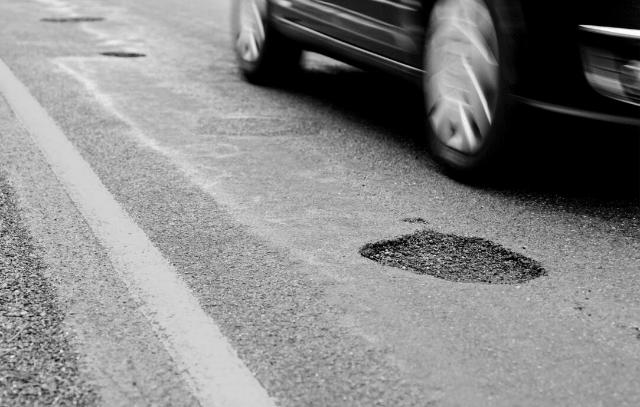Pothole: (356, 227, 550, 297), (100, 49, 148, 61), (37, 16, 104, 24)
